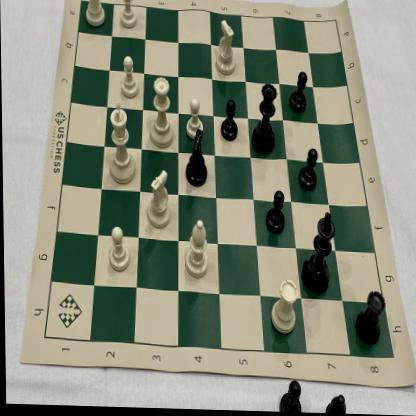black-king: (300, 210, 337, 300)
black-knight: (182, 129, 209, 188)
black-pawn: (262, 189, 286, 235), (296, 147, 319, 193), (217, 99, 240, 144), (288, 70, 309, 115)
black-queen: (250, 85, 278, 158)
black-rook: (352, 289, 384, 348)
white-bishop: (182, 219, 209, 282)
white-king: (105, 102, 137, 188)
white-knight: (146, 169, 172, 232)
white-pawn: (106, 226, 130, 276), (118, 56, 140, 102), (183, 99, 204, 142), (117, 0, 139, 34)
white-queen: (146, 75, 174, 152)
white-rook: (268, 275, 298, 339), (82, 0, 107, 32)
